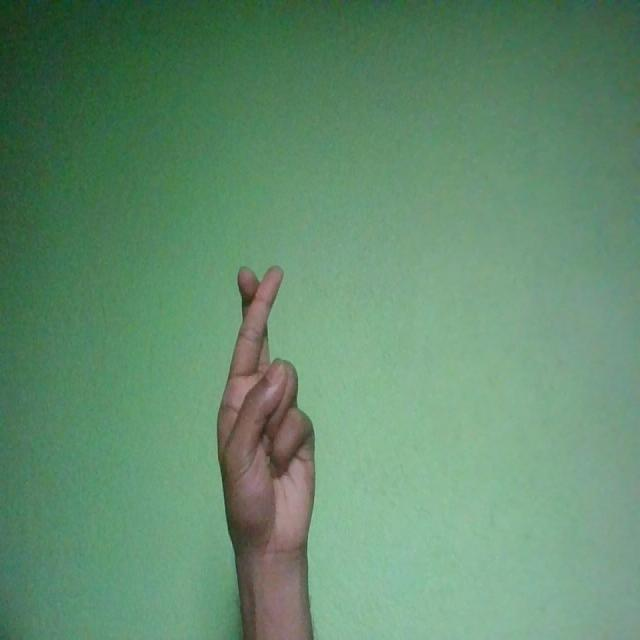Ok: (217, 265, 317, 559)
